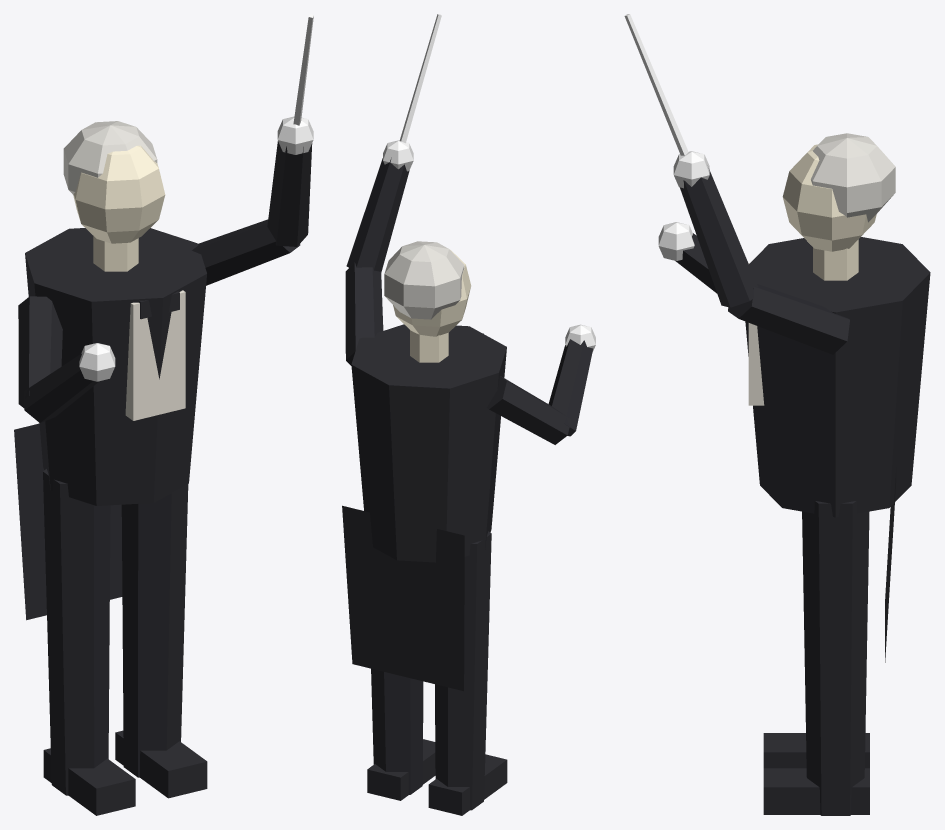
Rendered from Conductor_up.obj.
3 views of the same model, side by side, from view 1: azimuth 30°, elevation 25°; view 2: azimuth 150°, elevation 25°; view 3: azimuth 270°, elevation 25° (orthographic). The views are drawn at different scales.
Parts seen in each view (by area): view 1: Conductor_up; view 2: Conductor_up; view 3: Conductor_up.
Part boxes in pixels (left/top/right/bottom): Conductor_up: left=14, top=14, right=313, bottom=815; Conductor_up: left=342, top=14, right=595, bottom=815; Conductor_up: left=624, top=14, right=930, bottom=815.
Size of the model in its own units: 0.8308 by 2.38 by 0.8074.
Materials: 1 (1 with a texture image).
